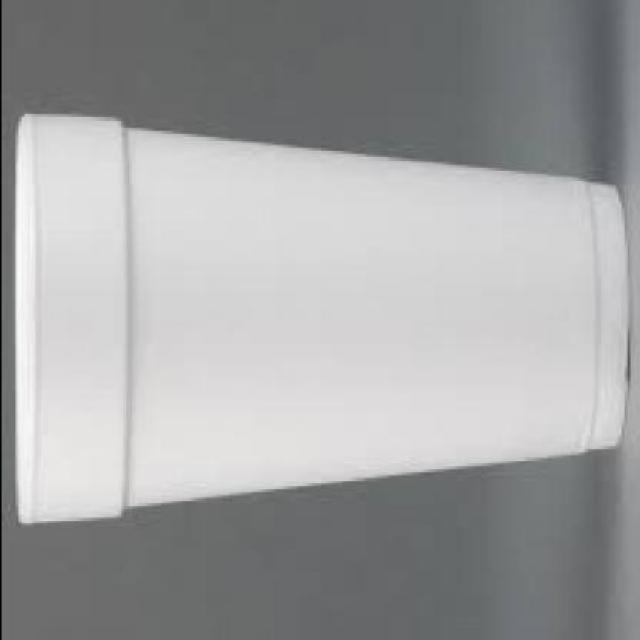PAPER: (11, 117, 626, 529)
